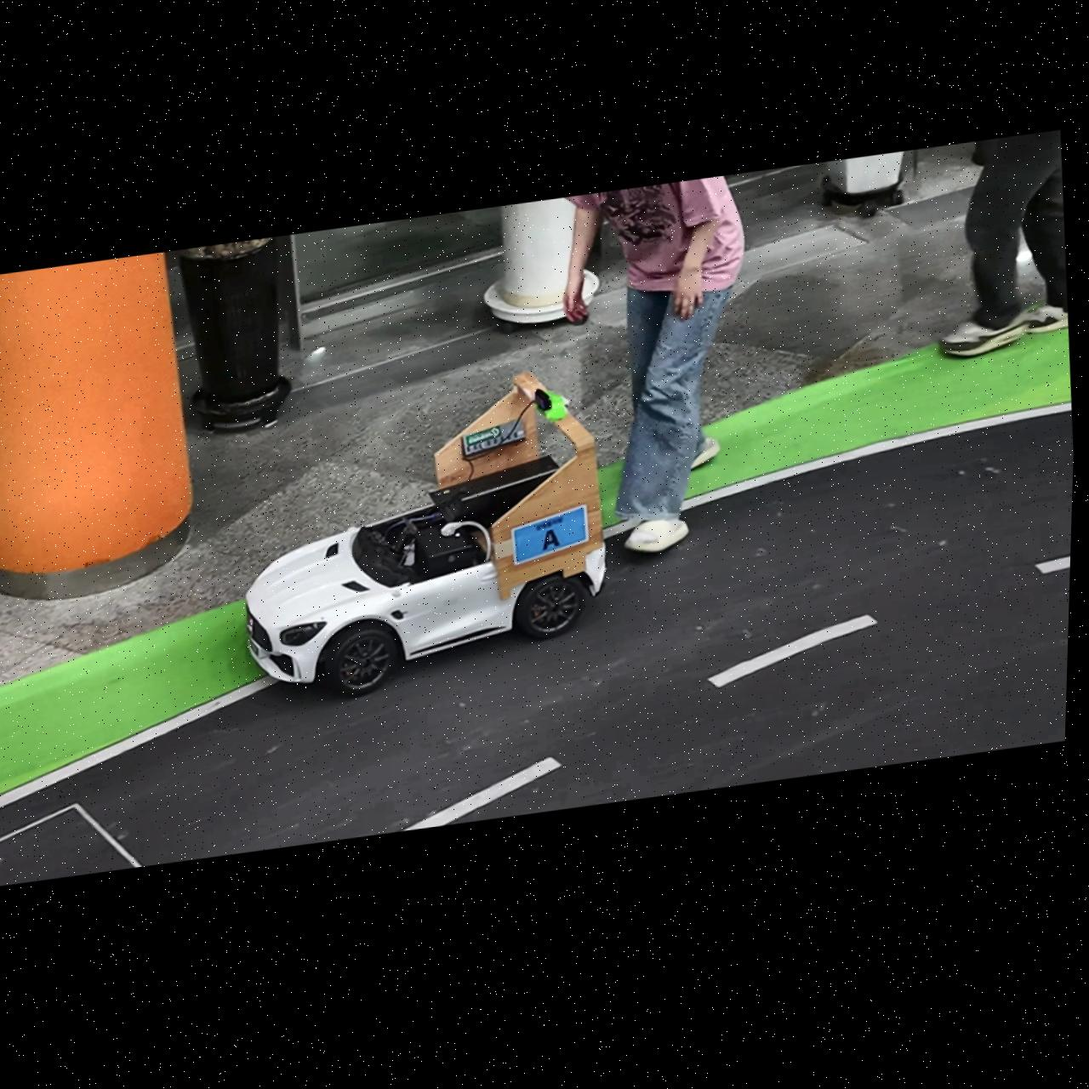broken_line: (708, 615, 878, 688), (405, 756, 561, 829), (1036, 556, 1070, 574)
